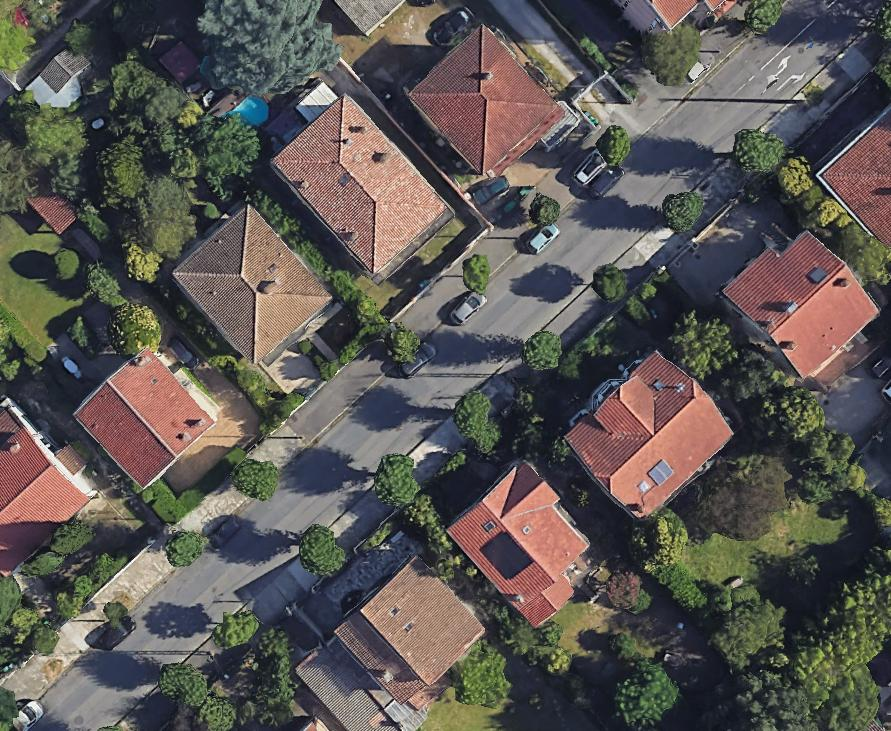maison: (552, 338, 742, 529), (267, 92, 450, 278), (443, 456, 615, 629), (717, 215, 886, 383), (166, 202, 331, 369), (402, 22, 566, 186), (332, 553, 489, 710), (70, 344, 217, 490), (0, 407, 88, 574), (817, 107, 890, 246), (613, 0, 729, 34)
